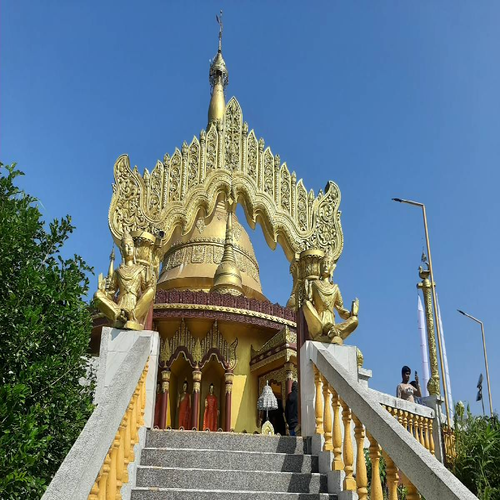Temple: (79, 15, 374, 431)
